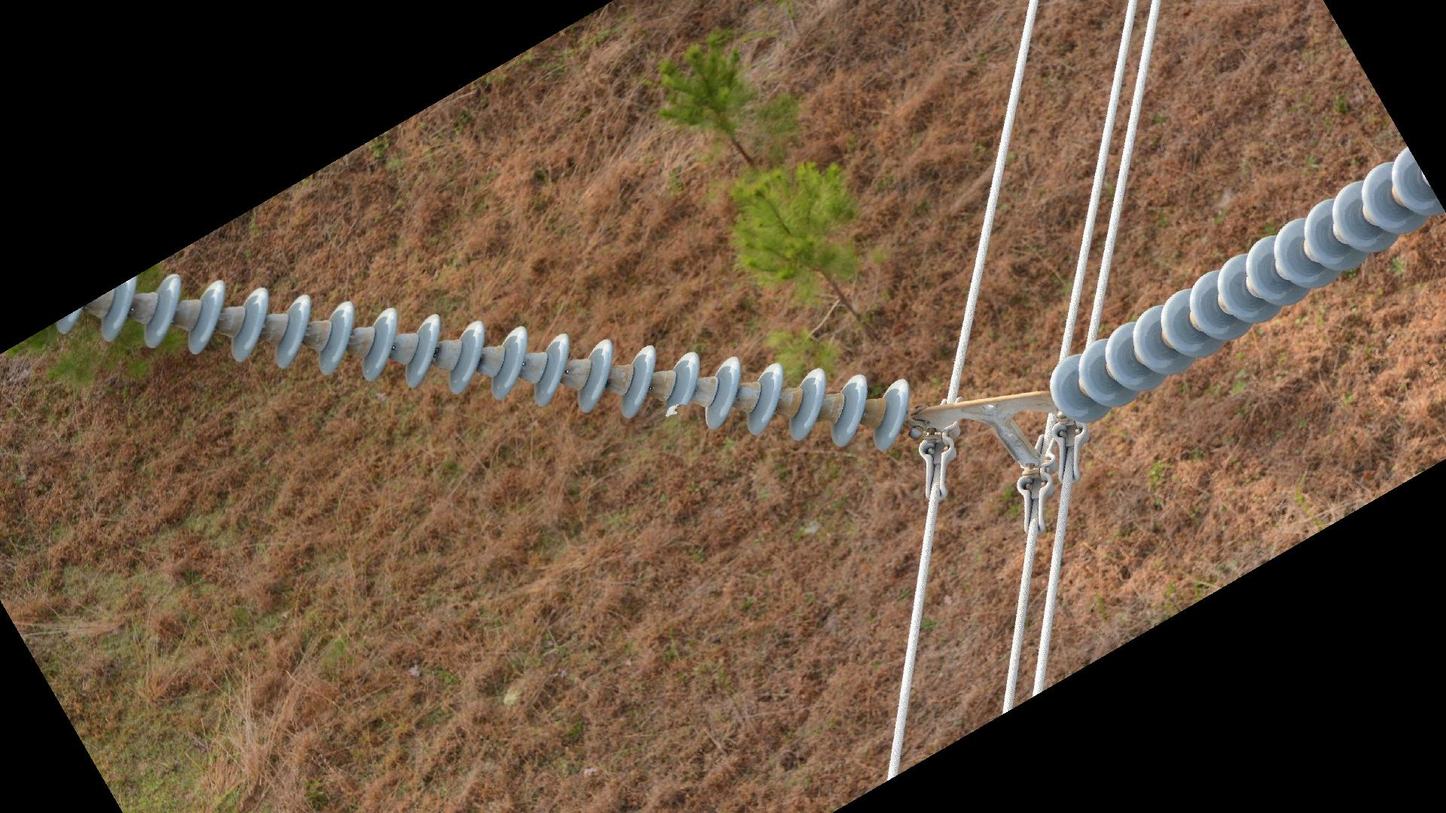insulator: (44, 266, 917, 458), (1045, 143, 1440, 428)
insulator_breakage: (662, 398, 690, 419)
